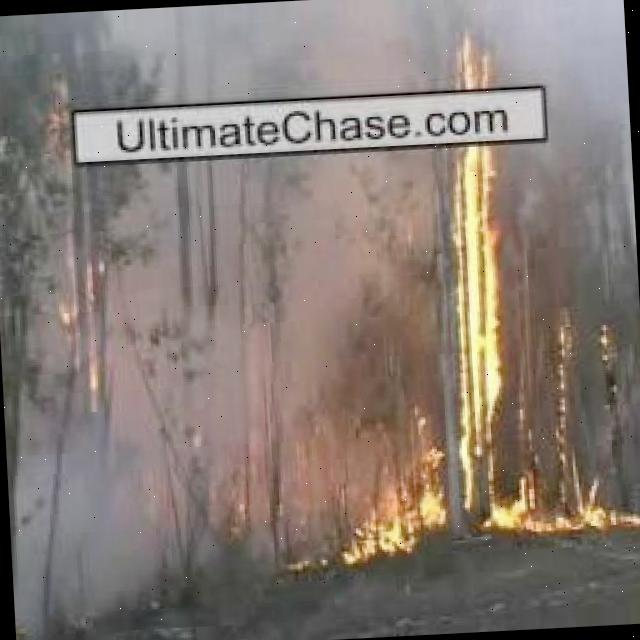fire: (442, 17, 516, 523), (343, 499, 448, 572), (526, 481, 640, 540)
